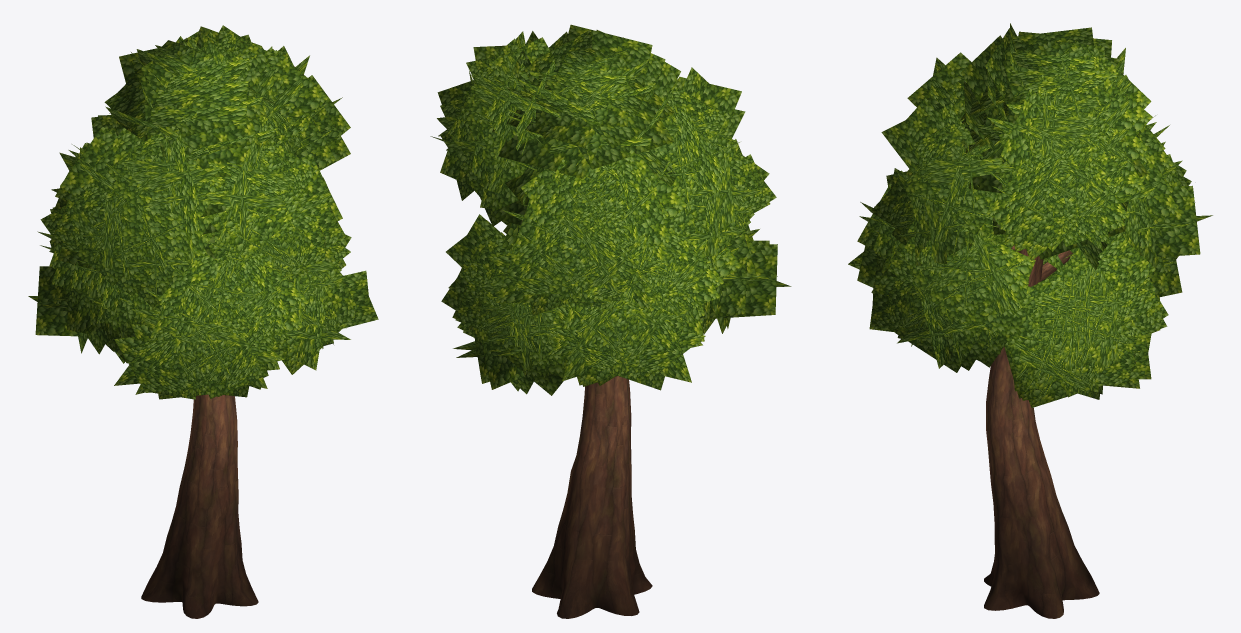
File: CommonTree_1.gltf
3 views of the same model, side by side, from view 1: azimuth 30°, elevation 25°; view 2: azimuth 150°, elevation 25°; view 3: azimuth 270°, elevation 25° (orthographic). The views are drawn at different scales.
Visible parts, largest first — view 1: CommonTree_1; view 2: CommonTree_1; view 3: CommonTree_1.
Part boxes in pixels (x1=…): CommonTree_1: x1=28, y1=25, x2=378, y2=618; CommonTree_1: x1=430, y1=24, x2=791, y2=618; CommonTree_1: x1=848, y1=23, x2=1212, y2=618.
Bounding box in the file's own units: 4.31 × 7.26 × 4.58.
2 materials, 2 textured.
